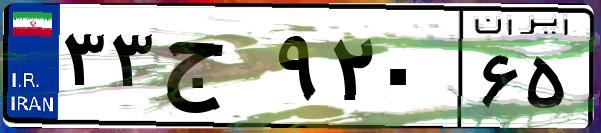0: (385, 28, 445, 110)
2: (330, 28, 385, 110)
3: (57, 26, 110, 100), (110, 28, 158, 98)
5: (525, 38, 570, 115)
6: (475, 38, 525, 113)
9: (270, 28, 330, 110)
ج: (158, 20, 270, 120)
